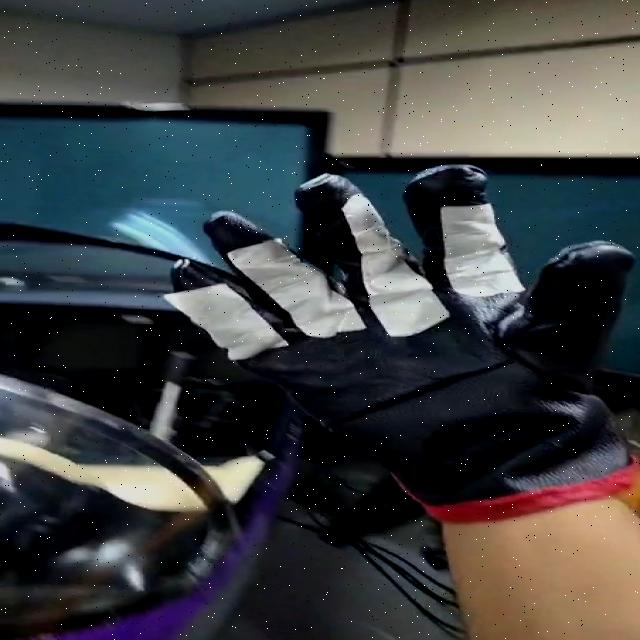Gloves: (167, 159, 640, 502)
